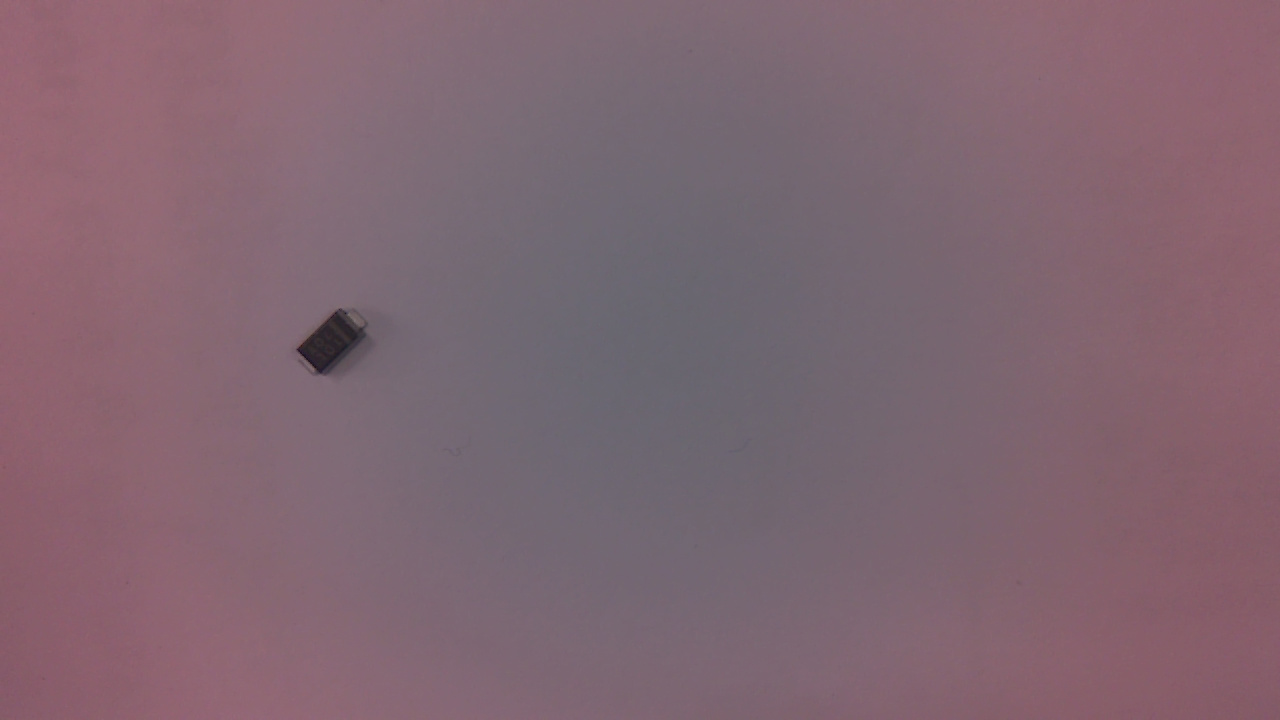Diode: (296, 308, 374, 384)
